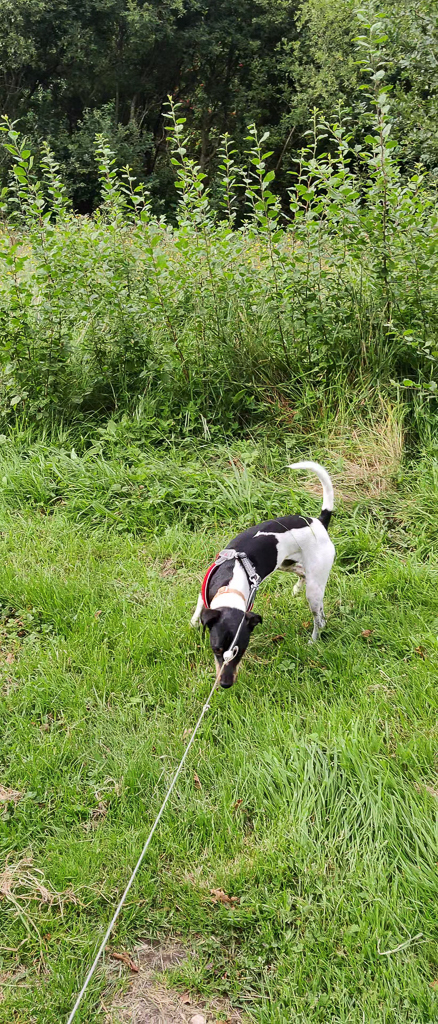Dog: (179, 459, 354, 695)
